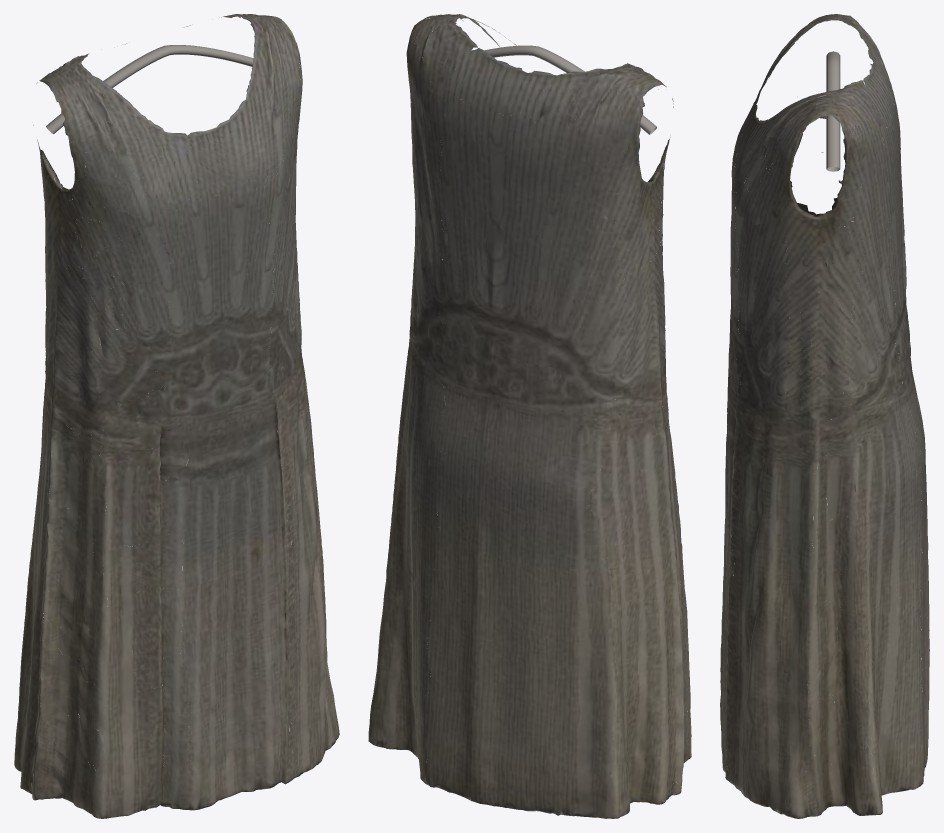
The model's file is dress_white.glb.
3 views of the same model, side by side, from view 1: azimuth 30°, elevation 25°; view 2: azimuth 150°, elevation 25°; view 3: azimuth 270°, elevation 25° (orthographic). The views are drawn at different scales.
Visible parts, largest first — view 1: dress_white_cloth, dress_white_hanger; view 2: dress_white_cloth, dress_white_hanger; view 3: dress_white_cloth, dress_white_hanger.
Boxes of the visible parts, x1,y1,x2,y2 form: dress_white_cloth: [14, 14, 339, 818]; dress_white_hanger: [46, 45, 253, 133]; dress_white_cloth: [368, 14, 691, 818]; dress_white_hanger: [484, 45, 656, 134]; dress_white_cloth: [720, 14, 929, 818]; dress_white_hanger: [826, 51, 840, 171].
Bounding box in the file's own units: 0.4192 × 1 × 0.2687.
2 materials, 1 textured.
